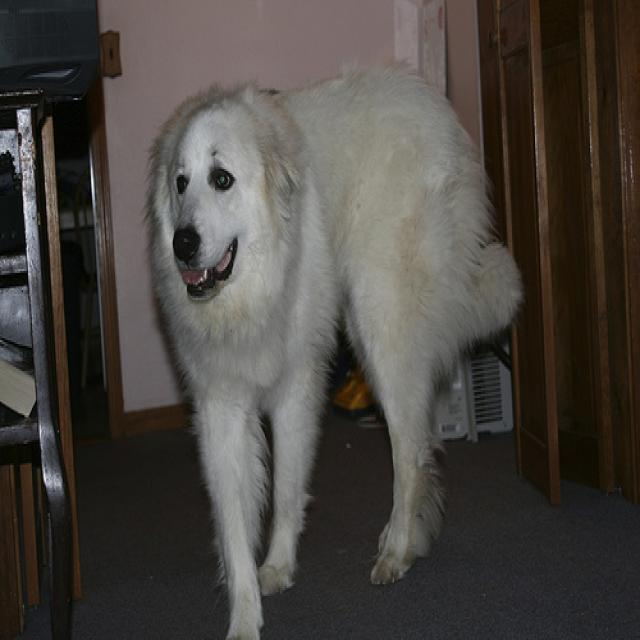dog-great_pyrenees: (141, 40, 526, 636)
